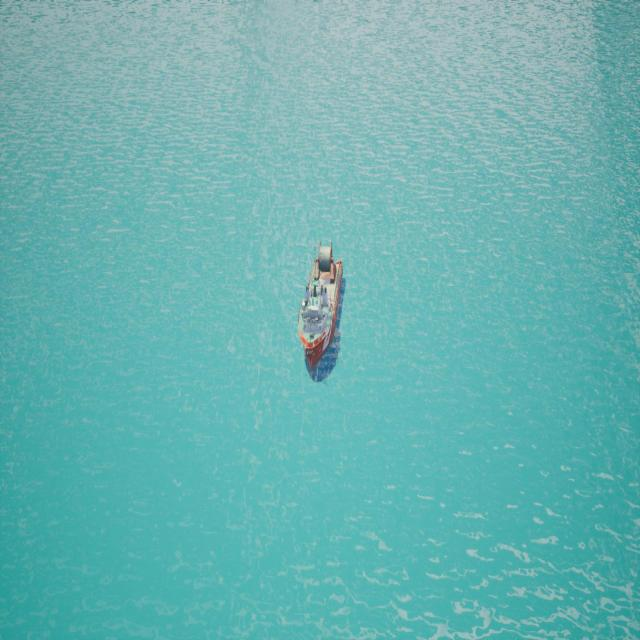tug boat: (292, 229, 351, 382)
